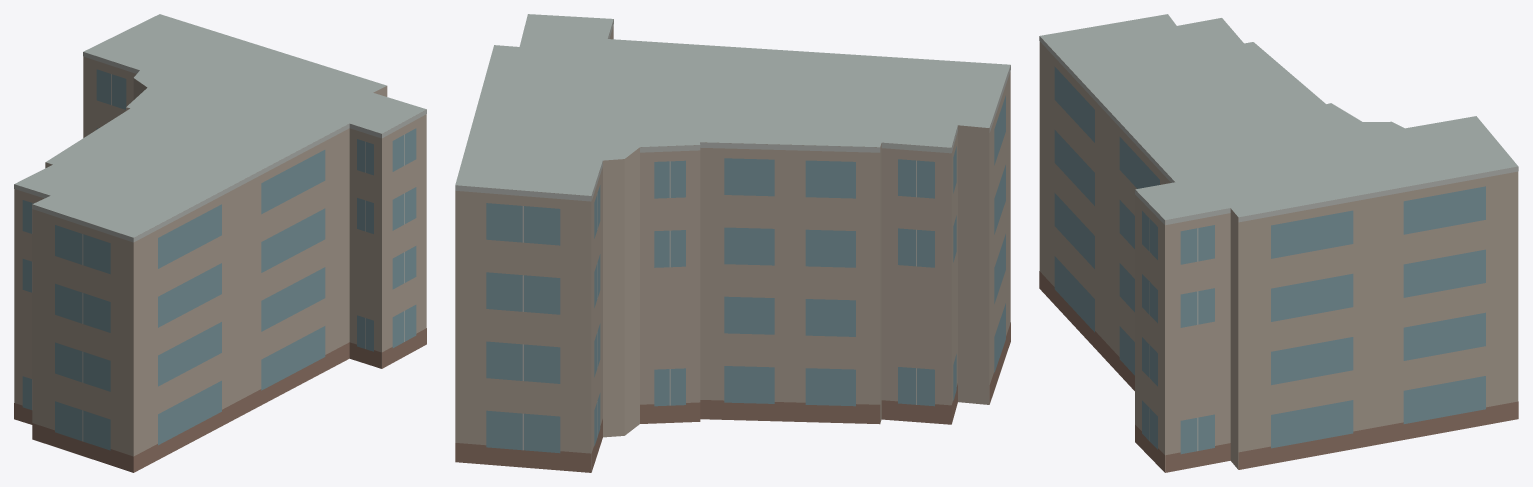
The model's file is survey-upis-32505339.glb.
The picture shows the model from 3 angles, left to right: view 1: azimuth 30°, elevation 25°; view 2: azimuth 150°, elevation 25°; view 3: azimuth 270°, elevation 25°; orthographic projection. The views are drawn at different scales.
Visible parts, largest first — view 1: survey-upis-32505339.tmp; view 2: survey-upis-32505339.tmp; view 3: survey-upis-32505339.tmp.
Part boxes in pixels (x1,y1,x2,y2): survey-upis-32505339.tmp: (14, 14, 426, 472); survey-upis-32505339.tmp: (455, 14, 1010, 472); survey-upis-32505339.tmp: (1039, 14, 1518, 472).
Bounding box in the file's own units: 21.37 × 12.2 × 20.97.
